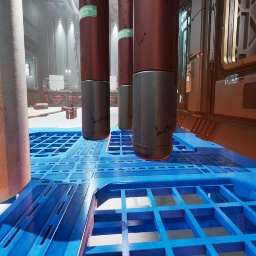0: (0, 0, 31, 203)
EmergencyPhone ,: (45, 96, 46, 98)
FireExtinguisher ]: (111, 90, 116, 90)
FirstAidBox ,: (66, 104, 77, 119), (61, 106, 68, 112)
NitrogenTank ,: (132, 0, 176, 160), (79, 0, 110, 140), (117, 0, 133, 131), (172, 0, 180, 132), (33, 103, 48, 110)
SafetySwitchPanel ,: (186, 63, 195, 92), (25, 64, 30, 75), (42, 80, 47, 91)
